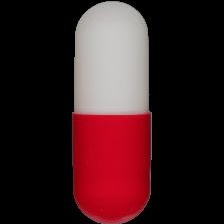69189-6201: (0, 0, 224, 224)
